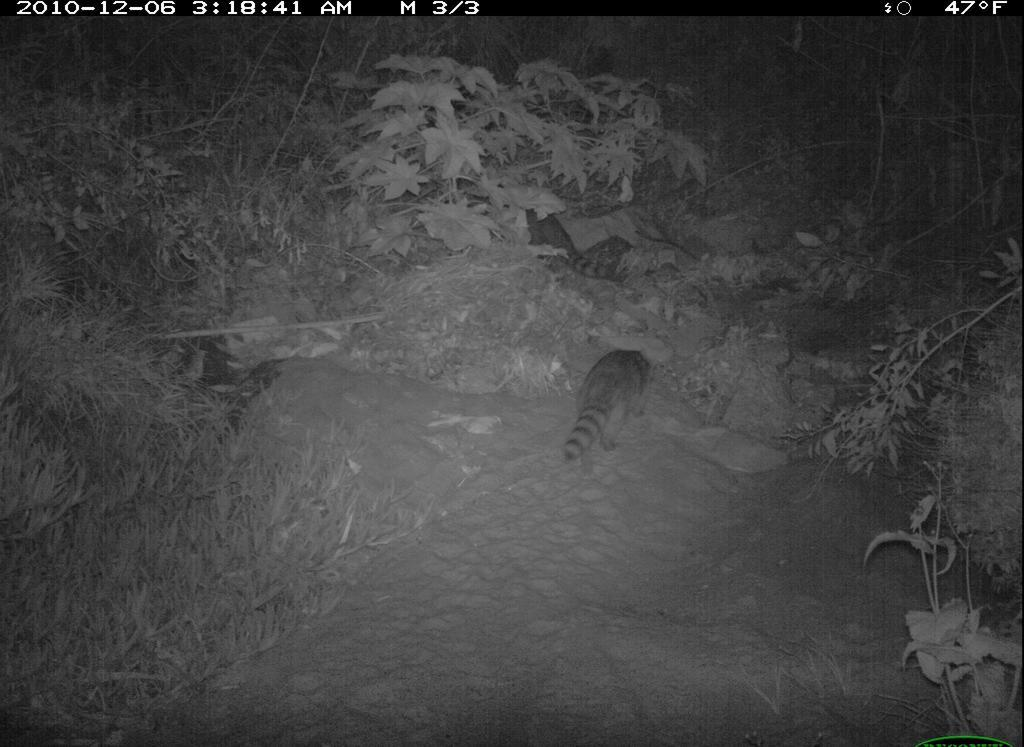raccoon: (548, 340, 665, 474), (511, 199, 623, 289)
